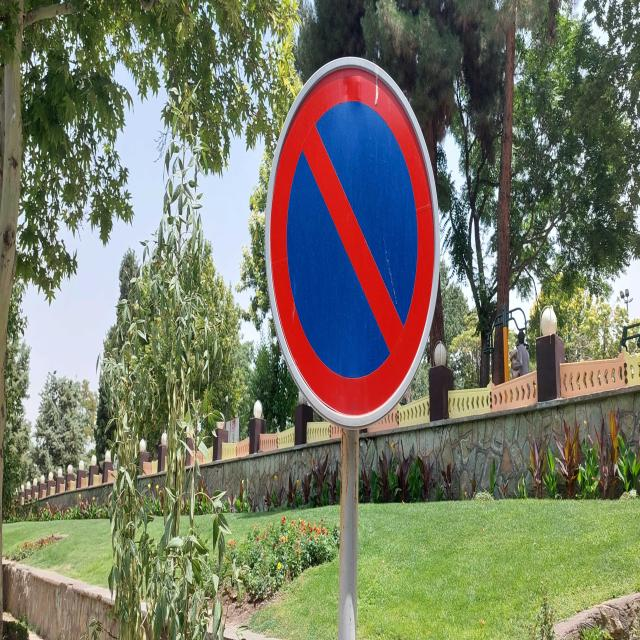forb_stopping: (267, 57, 442, 429)
